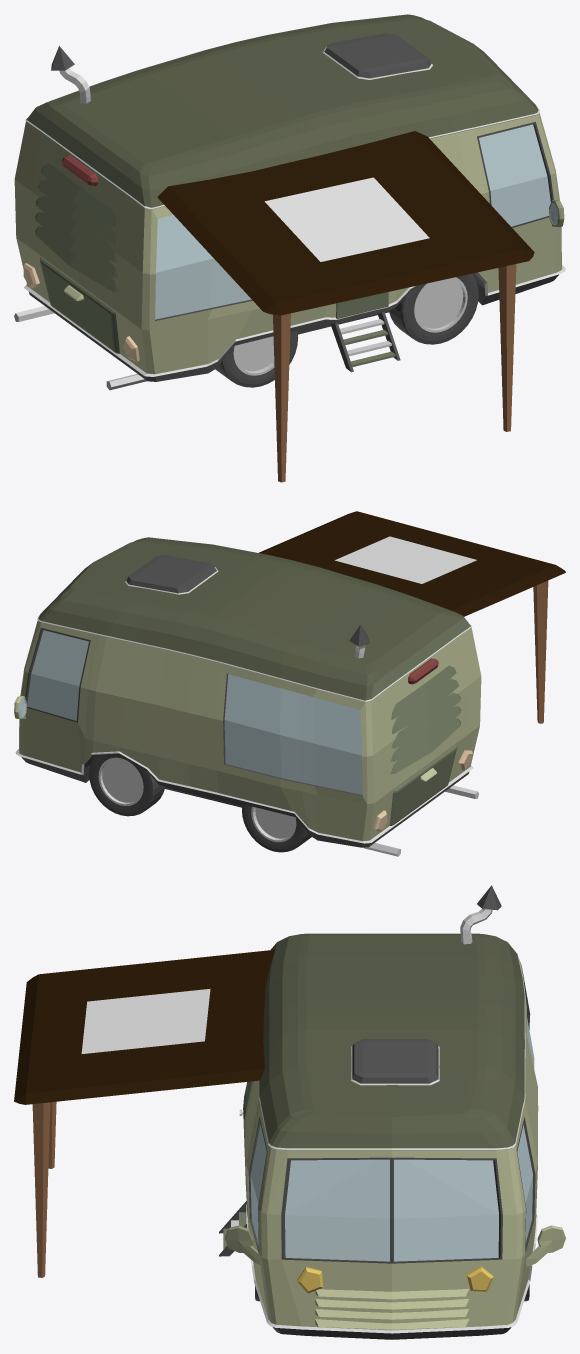
Rendered from GeoVan.fbx.
3 views of the same model, one above another, from view 1: azimuth 30°, elevation 25°; view 2: azimuth 150°, elevation 25°; view 3: azimuth 270°, elevation 25° (orthographic). The views are drawn at different scales.
Visible parts, largest first — view 1: CarBody, Plane.001, WindowShades, FrontRightWheel, RoofHatch, RearHatch, RearRightWheel, Stair, ChassisTrim, Pipe, RoofTrim; view 2: CarBody, Plane.001, WindowShades, FrontLeftWheel, RoofHatch, RearHatch, RearLeftWheel, ChassisTrim, RoofTrim; view 3: CarBody, Plane.001, Grill, RoofHatch, ChassisTrim, RoofTrim, Pipe, LeftMirror, RightMirror.
Boxes of the visible parts, x1=… form: CarBody: x1=14, y1=14, x2=561, y2=381; Plane.001: x1=157, y1=131, x2=534, y2=482; WindowShades: x1=35, y1=163, x2=118, y2=292; FrontRightWheel: x1=389, y1=274, x2=478, y2=344; RoofHatch: x1=324, y1=33, x2=431, y2=78; RearHatch: x1=40, y1=257, x2=119, y2=353; RearRightWheel: x1=215, y1=330, x2=298, y2=387; Stair: x1=330, y1=312, x2=400, y2=372; ChassisTrim: x1=24, y1=265, x2=565, y2=376; Pipe: x1=51, y1=46, x2=90, y2=103; RoofTrim: x1=25, y1=92, x2=539, y2=209; CarBody: x1=19, y1=537, x2=481, y2=847; Plane.001: x1=259, y1=511, x2=565, y2=723; WindowShades: x1=390, y1=665, x2=461, y2=773; FrontLeftWheel: x1=89, y1=755, x2=165, y2=816; RoofHatch: x1=126, y1=555, x2=216, y2=593; RearHatch: x1=389, y1=744, x2=457, y2=825; RearLeftWheel: x1=242, y1=804, x2=311, y2=852; ChassisTrim: x1=15, y1=749, x2=473, y2=843; RoofTrim: x1=37, y1=605, x2=471, y2=702; CarBody: x1=243, y1=933, x2=538, y2=1339; Plane.001: x1=14, y1=949, x2=274, y2=1277; Grill: x1=315, y1=1288, x2=469, y2=1329; RoofHatch: x1=352, y1=1039, x2=438, y2=1083; ChassisTrim: x1=246, y1=1212, x2=537, y2=1333; RoofTrim: x1=258, y1=954, x2=525, y2=1150; Pipe: x1=460, y1=885, x2=501, y2=944; LeftMirror: x1=526, y1=1225, x2=565, y2=1266; RightMirror: x1=225, y1=1225, x2=260, y2=1264.
Bounding box in the file's own units: 414 × 241 × 429.
